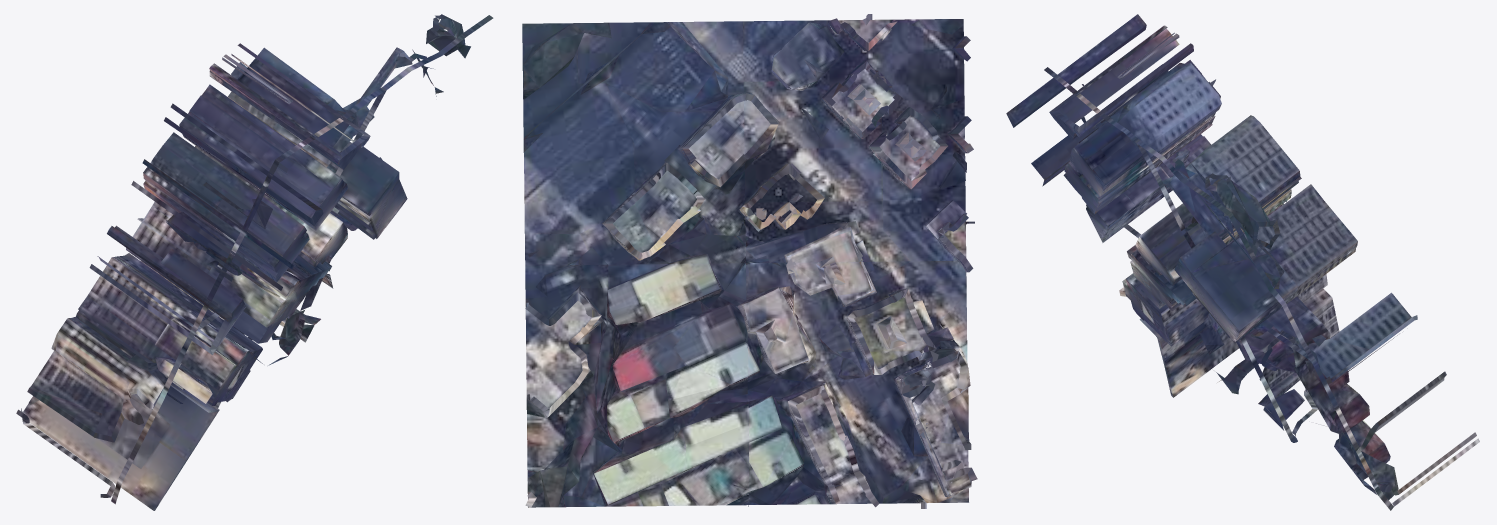
3 renders of one model, left to right at view 1: azimuth 30°, elevation 25°; view 2: azimuth 150°, elevation 25°; view 3: azimuth 270°, elevation 25°, orthographic. The views are drawn at different scales.
Bounding box in the file's own units: 175 × 161 × 175.
1 material, 1 textured.
